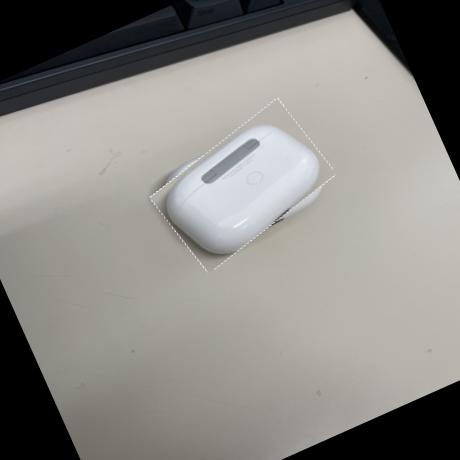airpod3: (141, 98, 344, 272)
